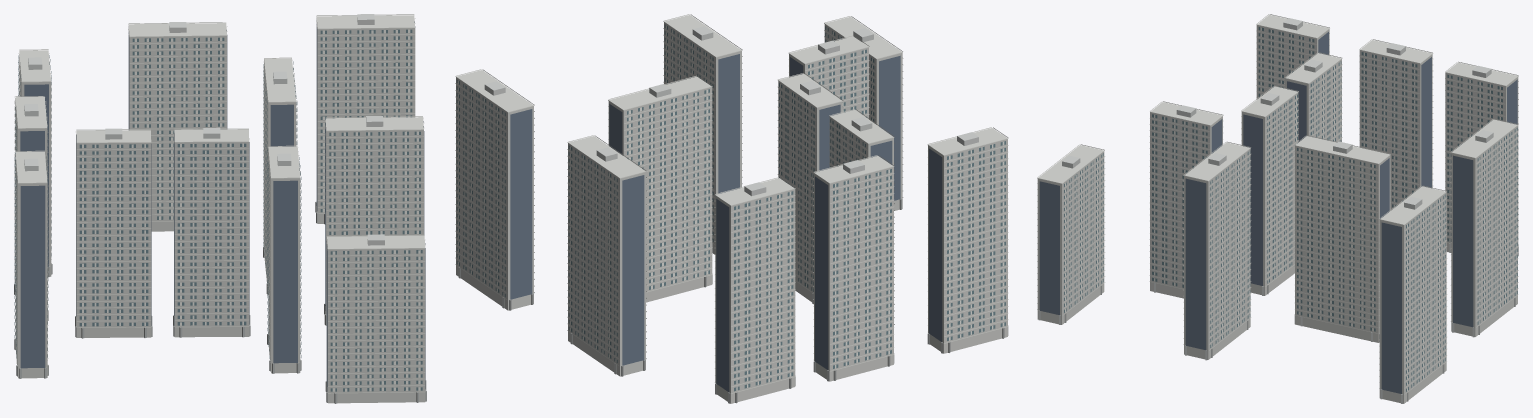
Rendered from representative-a13381608.glb.
The picture shows the model from 3 angles, left to right: view 1: azimuth 30°, elevation 25°; view 2: azimuth 150°, elevation 25°; view 3: azimuth 270°, elevation 25°; orthographic projection. The views are drawn at different scales.
Visible parts, largest first — view 1: A13381608_wall001, A13381608_trim001, A13381608_glass001, A13381608_accent001, A13381608_roof001, A13381608_base001; view 2: A13381608_wall001, A13381608_trim001, A13381608_glass001, A13381608_accent001, A13381608_roof001, A13381608_base001; view 3: A13381608_wall001, A13381608_trim001, A13381608_glass001, A13381608_accent001, A13381608_roof001, A13381608_base001.
Boxes of the visible parts, x1,y1,x2,y2 form: A13381608_wall001: (15, 15, 425, 403); A13381608_trim001: (14, 14, 425, 393); A13381608_glass001: (14, 29, 422, 391); A13381608_accent001: (20, 21, 425, 391); A13381608_roof001: (24, 14, 384, 245); A13381608_base001: (14, 201, 426, 403); A13381608_wall001: (456, 15, 1007, 403); A13381608_trim001: (455, 14, 1008, 393); A13381608_glass001: (456, 24, 1005, 391); A13381608_accent001: (510, 54, 942, 392); A13381608_roof001: (484, 26, 978, 196); A13381608_base001: (458, 198, 1008, 403); A13381608_wall001: (1037, 15, 1518, 403); A13381608_trim001: (1037, 14, 1518, 394); A13381608_glass001: (1064, 27, 1517, 391); A13381608_accent001: (1039, 32, 1517, 393); A13381608_roof001: (1062, 18, 1493, 209); A13381608_base001: (1038, 243, 1518, 403).
Bounding box in the file's own units: 192 × 78 × 186.
